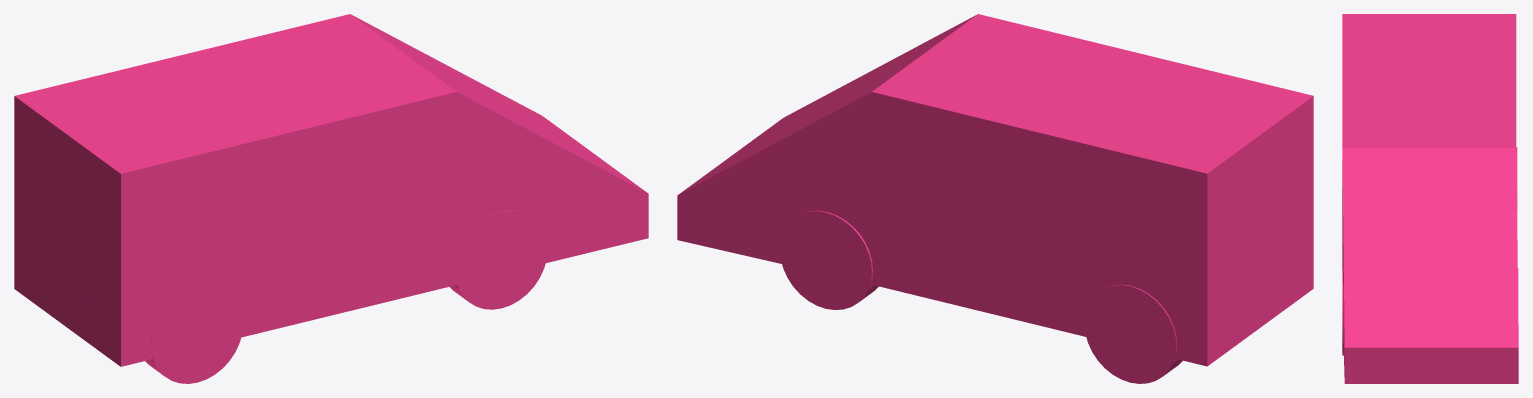
The model's file is ShithuseTruck.fbx.
3 renders of one model, left to right at view 1: azimuth 30°, elevation 25°; view 2: azimuth 150°, elevation 25°; view 3: azimuth 270°, elevation 25°, orthographic. The views are drawn at different scales.
Visible parts, largest first — view 1: Truck; view 2: Truck; view 3: Truck.
Part boxes in pixels (box(x1,y1,x2,y2)): Truck: box(14, 14, 648, 383); Truck: box(677, 14, 1313, 383); Truck: box(1342, 14, 1518, 383).
Bounding box in the file's own units: 5.74 × 2.36 × 2.03.
